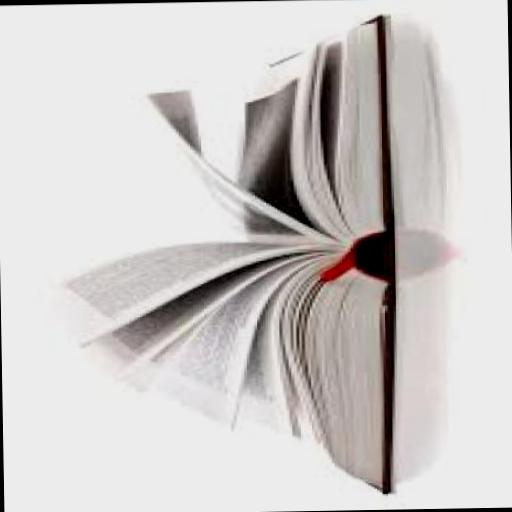paper: (38, 12, 399, 496), (47, 235, 344, 344), (232, 44, 342, 238)
